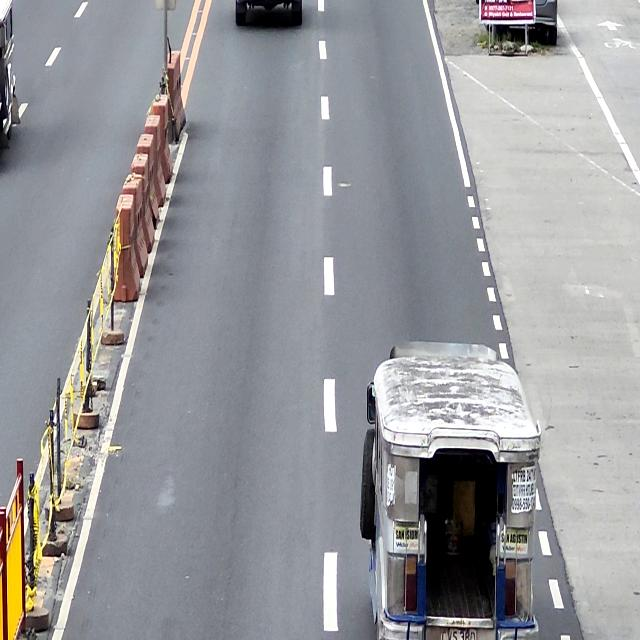Jeep: (361, 342, 542, 640)
License-Plate: (440, 625, 476, 640)
